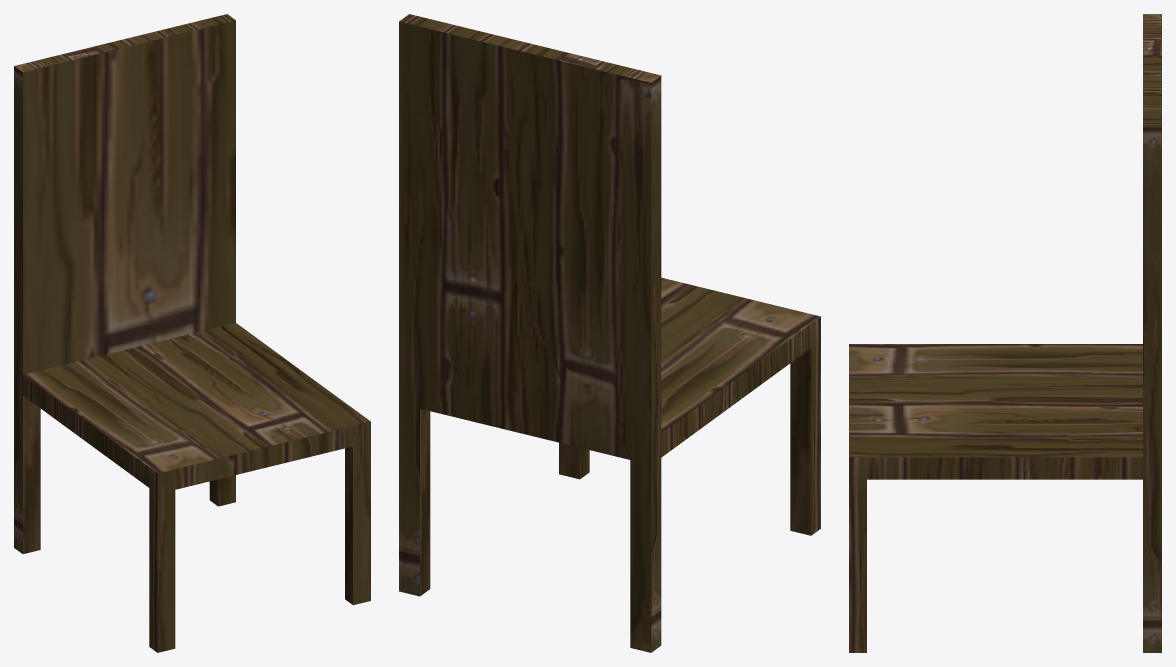
The model's file is village_chair.fbx.
3 views of the same model, side by side, from view 1: azimuth 30°, elevation 25°; view 2: azimuth 150°, elevation 25°; view 3: azimuth 270°, elevation 25° (orthographic). The views are drawn at different scales.
Visible parts, largest first — view 1: Chair; view 2: Chair; view 3: Chair.
Part boxes in pixels (left/top/right/bottom): Chair: left=14, top=14, right=370, bottom=652; Chair: left=399, top=14, right=820, bottom=652; Chair: left=849, top=14, right=1161, bottom=652.
Bounding box in the file's own units: 64.09 × 138 × 74.71.
